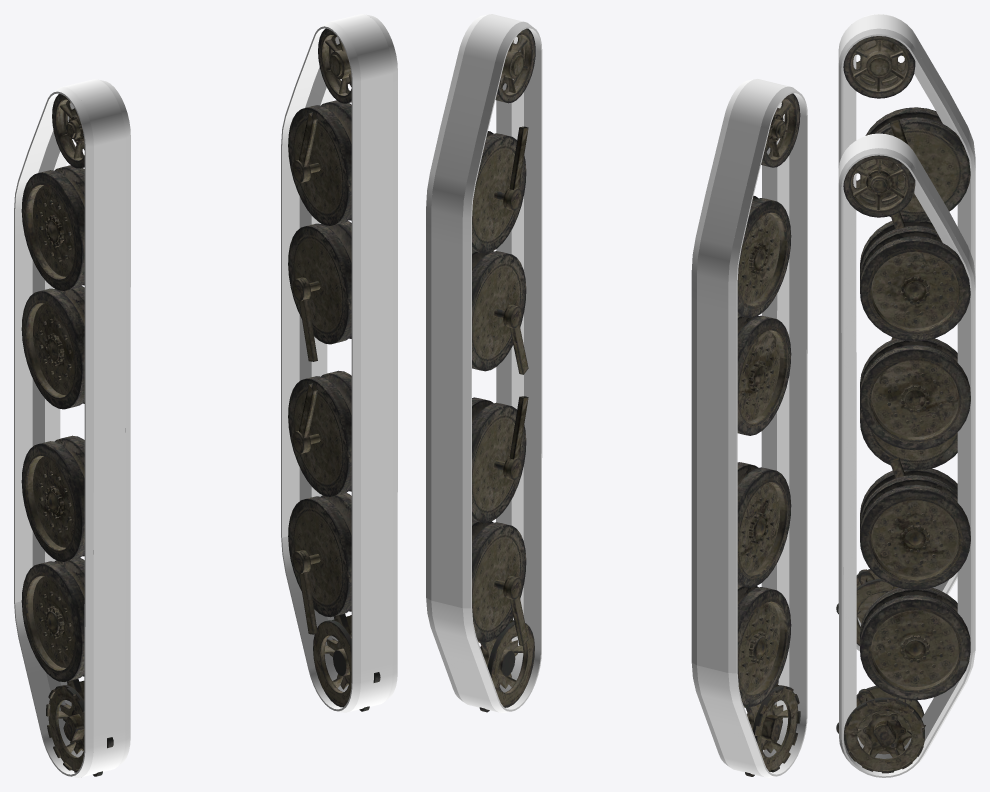
Rendered from Chassis.glb.
The picture shows the model from 3 angles, left to right: view 1: azimuth 30°, elevation 25°; view 2: azimuth 150°, elevation 25°; view 3: azimuth 270°, elevation 25°; orthographic projection. The views are drawn at different scales.
Visible parts, largest first — view 1: set_0_group_0, set_1_group_0, set_3_group_0, set_2_group_0; view 2: set_0_group_0, set_1_group_0, set_3_group_0, set_2_group_0; view 3: set_3_group_0, set_1_group_0, set_2_group_0, set_0_group_0.
Boxes of the visible parts, x1,y1,x2,y2 form: set_0_group_0: (14,79,130,777); set_1_group_0: (281,14,397,712); set_3_group_0: (288,28,380,711); set_2_group_0: (21,94,113,776); set_0_group_0: (691,79,807,777); set_1_group_0: (426,14,542,712); set_3_group_0: (472,28,535,712); set_2_group_0: (737,93,800,776); set_3_group_0: (836,155,970,773); set_1_group_0: (838,133,975,777); set_2_group_0: (836,36,970,645); set_0_group_0: (838,14,975,651).
Size of the model in its own units: 2.57 by 5.39 by 1.08.
Materials: 4 (2 with a texture image).
